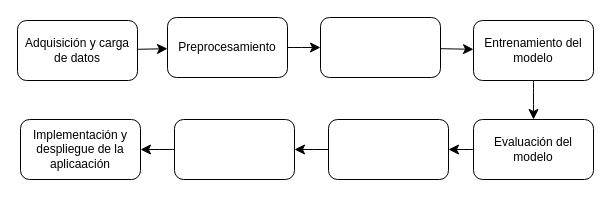
This 611x197 diagram has some shape labels left out. The centre of each missing label's shape, as x and y in pixels:
Análisis Exploratorio de Datos (EDA): (x=380, y=47)
Exportación del modelo entrenado: (x=234, y=149)
Interpretación de resultados: (x=388, y=149)
